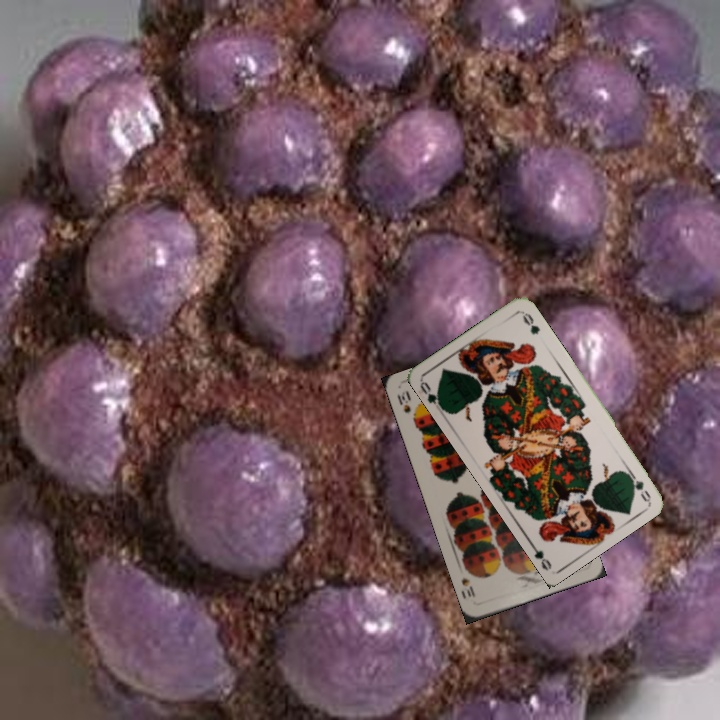GO: (622, 466, 654, 504), (416, 378, 447, 415)
S10: (393, 386, 414, 416)
